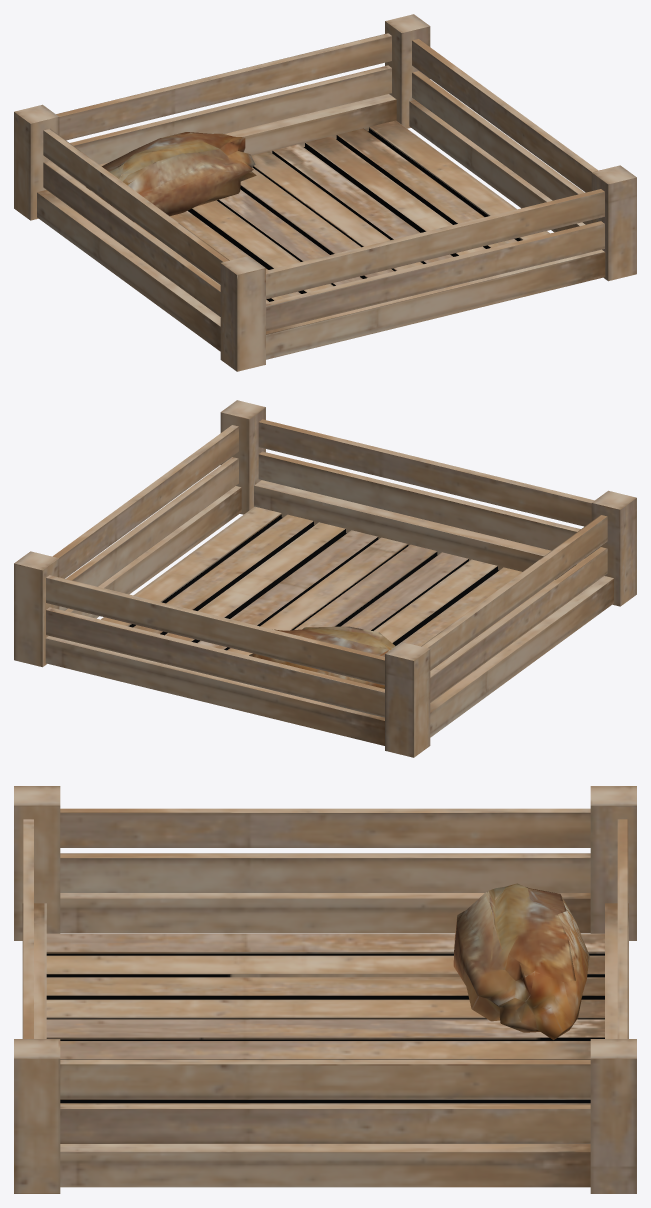
File: MS_BreadStack1.fbx
3 views of the same model, one above another, from view 1: azimuth 30°, elevation 25°; view 2: azimuth 150°, elevation 25°; view 3: azimuth 270°, elevation 25° (orthographic). The views are drawn at different scales.
Parts seen in each view (by area): view 1: Cube.008; view 2: Cube.008; view 3: Cube.008.
Part boxes in pixels (<box>): Cube.008: <box>14,14,636,371</box>; Cube.008: <box>14,400,636,757</box>; Cube.008: <box>14,786,636,1193</box>.
Size of the model in its own units: 903 by 209 by 872.
Materials: 1 (1 with a texture image).
